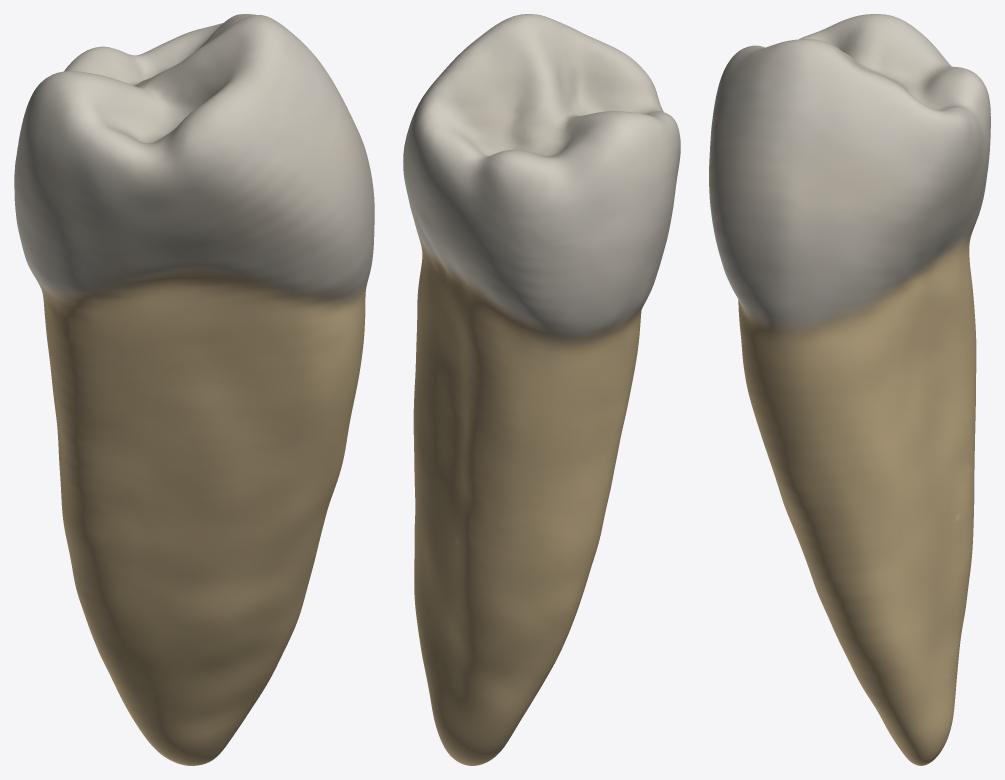
File: mandibular_left_second_premolar.glb
3 renders of one model, left to right at view 1: azimuth 30°, elevation 25°; view 2: azimuth 150°, elevation 25°; view 3: azimuth 270°, elevation 25°, orthographic. The views are drawn at different scales.
Parts seen in each view (by area): view 1: Object_2; view 2: Object_2; view 3: Object_2.
Part boxes in pixels (x1,y1,x2,y2): Object_2: [14, 14, 374, 765]; Object_2: [403, 14, 680, 765]; Object_2: [709, 14, 990, 765].
Size of the model in its own units: 0.7555 by 1.93 by 0.6816.
1 material, 1 textured.
